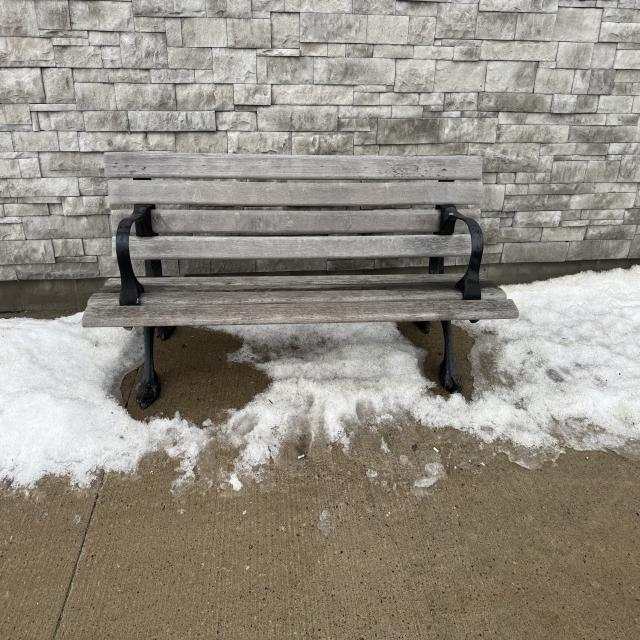Bench: (88, 140, 518, 404)
